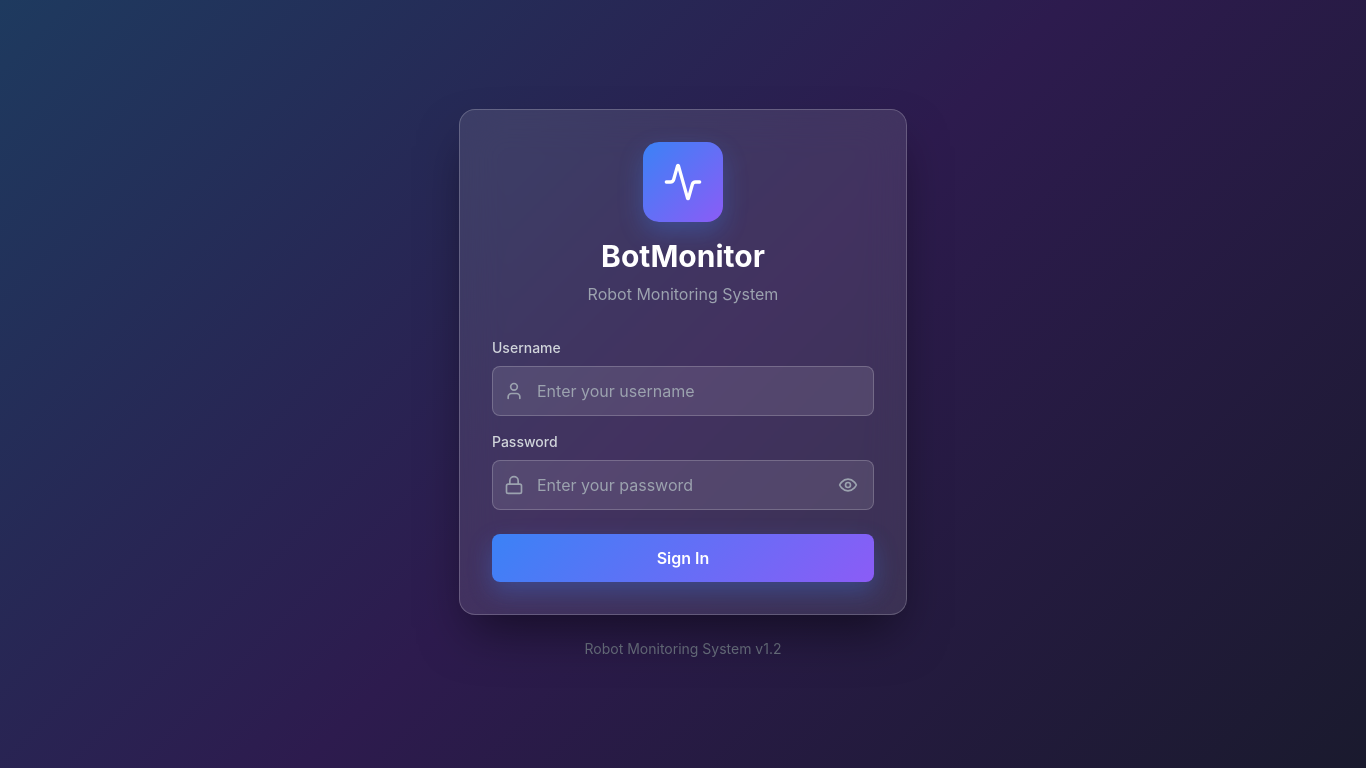
Login Page › shows loading state while submitting
The image size is (1366, 768).
Type "admin" into the field with placeholder "Enter your username" at (683, 391), box [492, 366, 874, 416]
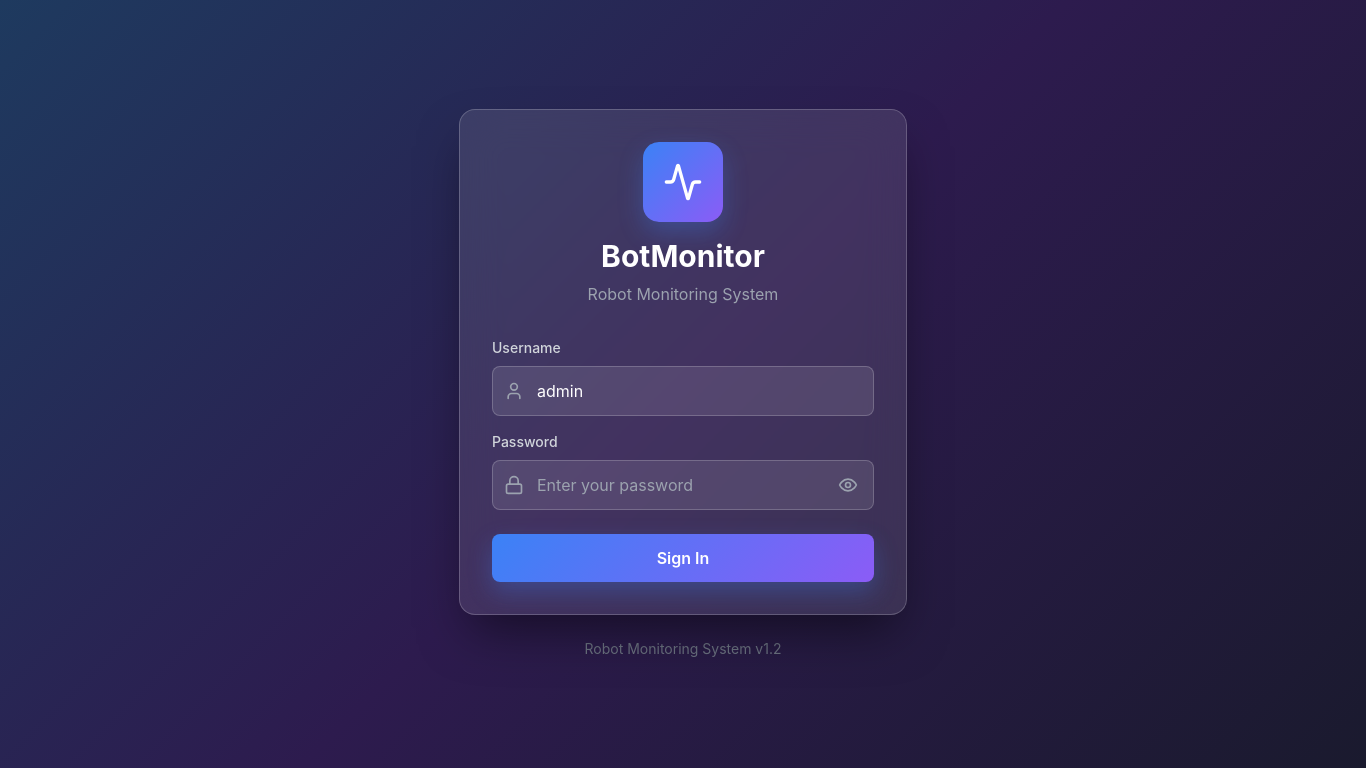
Type "password" into the password field with placeholder "Enter your password" at (683, 485), box [492, 460, 874, 510]
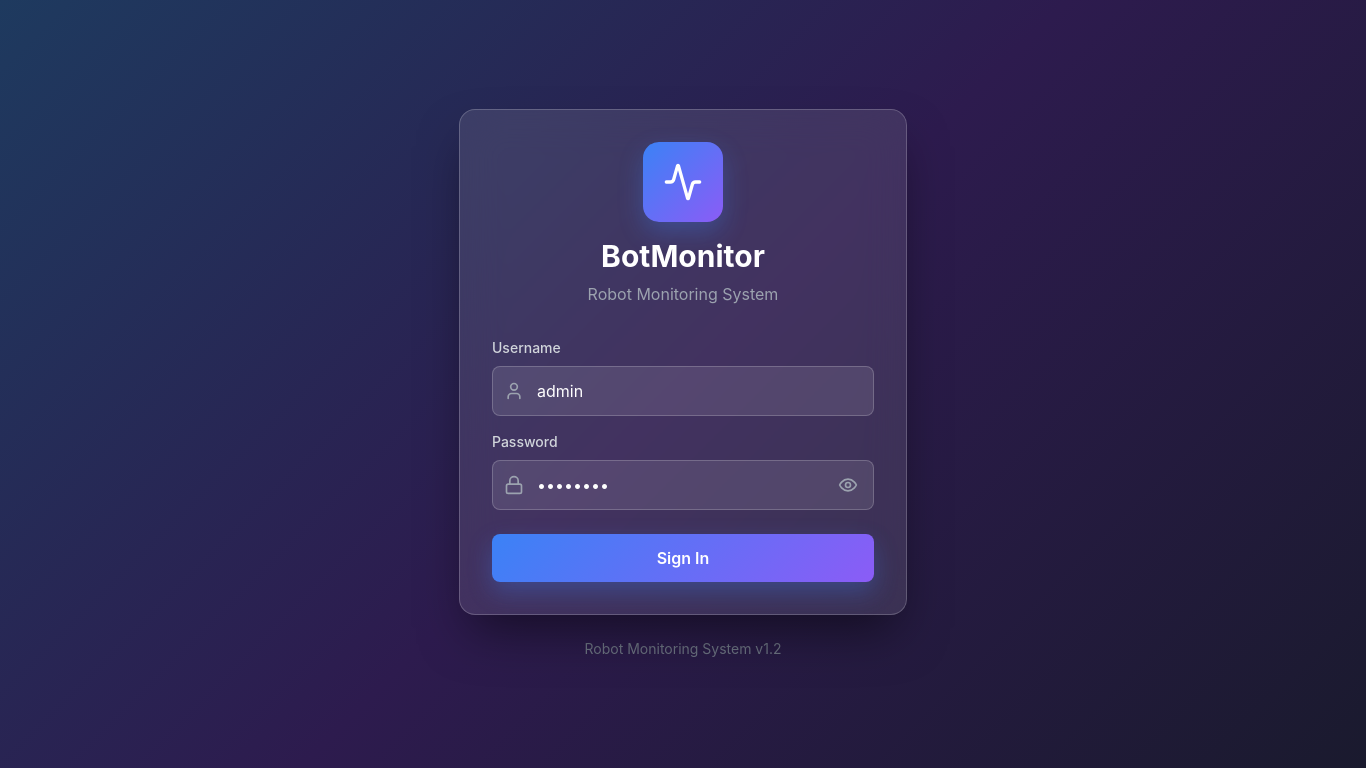
Click the button "Sign In" at (683, 558), box [492, 534, 874, 582]
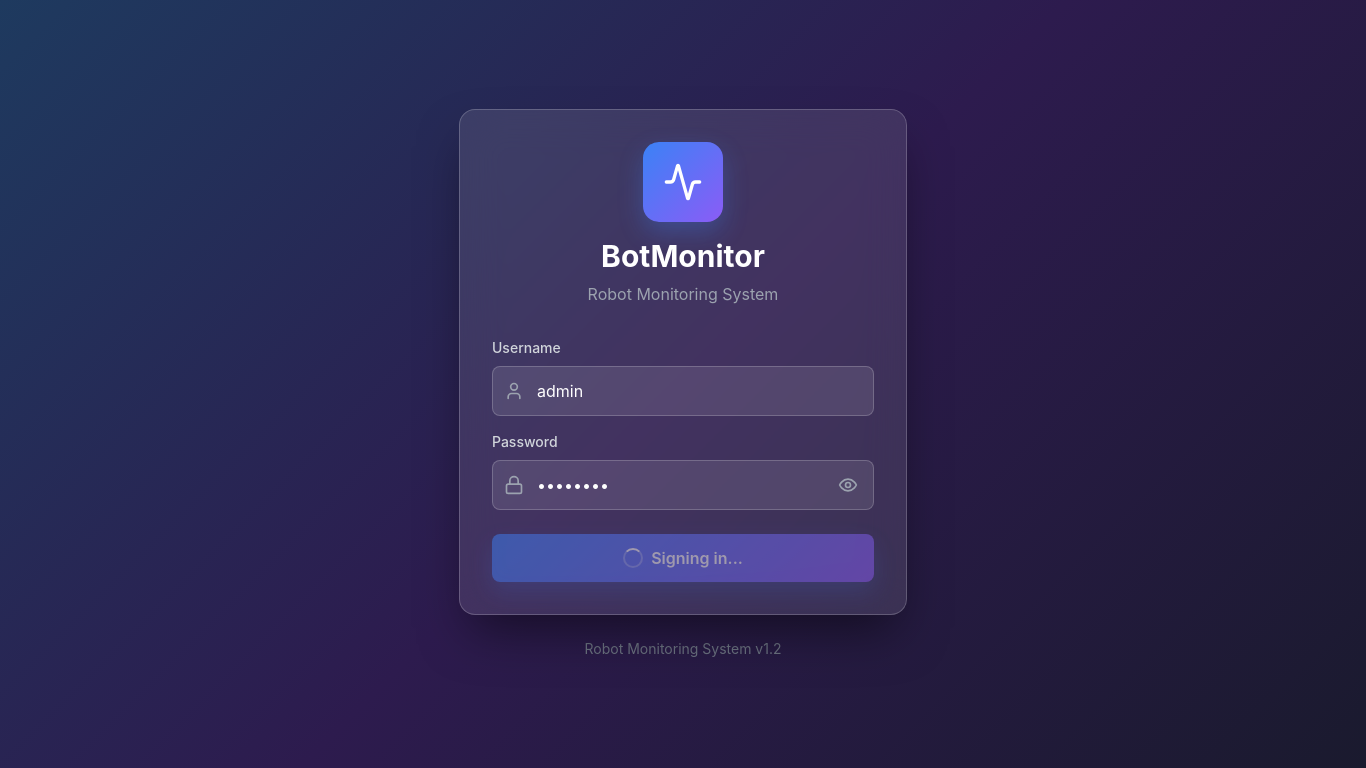
Check: the text "Signing in..." is shown, box [623, 548, 743, 568]
